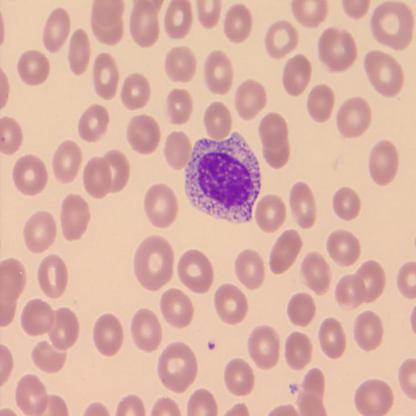Metamyelocyte: (183, 129, 263, 226)
